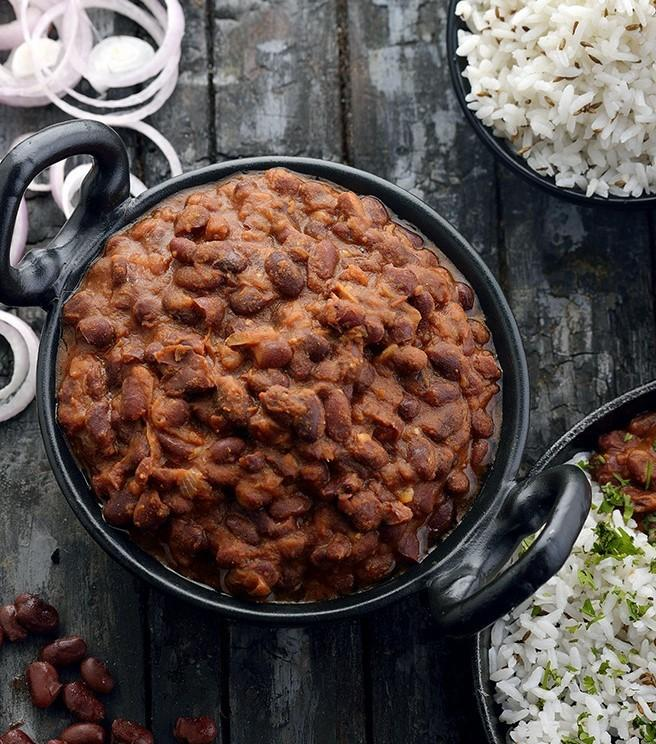RajmaCurry: (53, 158, 504, 594)
WhiteRice: (489, 455, 656, 744), (457, 3, 656, 197)
